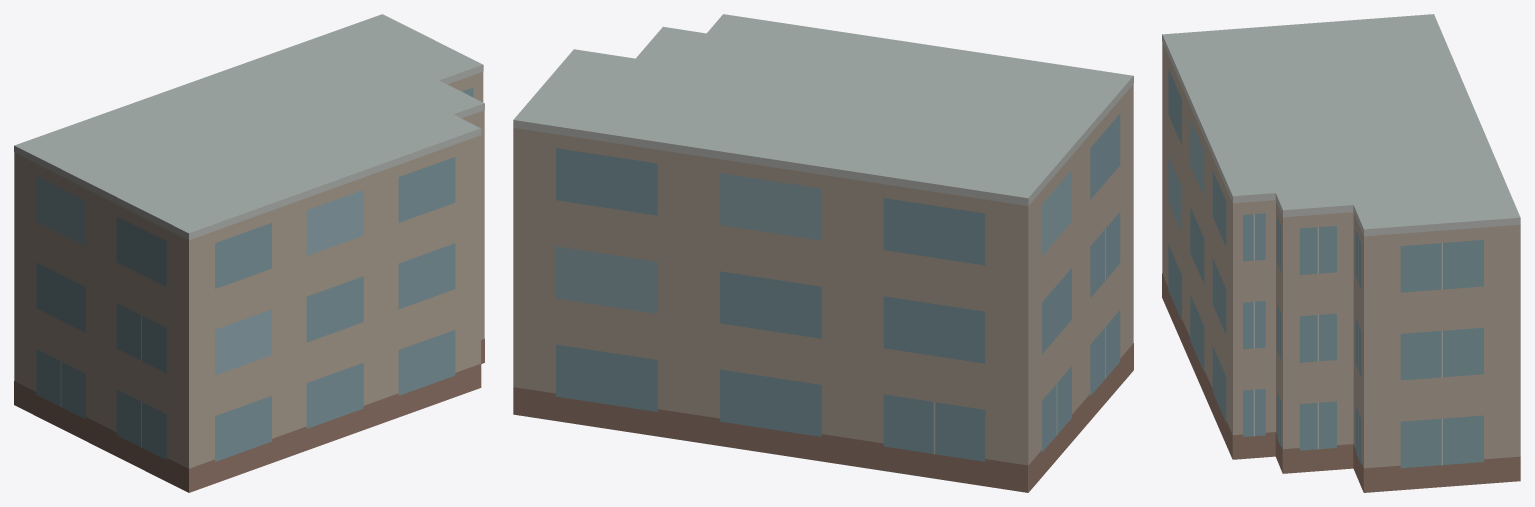
The model's file is survey-upis-32979979.glb.
The picture shows the model from 3 angles, left to right: view 1: azimuth 30°, elevation 25°; view 2: azimuth 150°, elevation 25°; view 3: azimuth 270°, elevation 25°; orthographic projection. The views are drawn at different scales.
Parts seen in each view (by area): view 1: survey-upis-32979979.tmp; view 2: survey-upis-32979979.tmp; view 3: survey-upis-32979979.tmp.
Part boxes in pixels (x1,y1,x2,y2): survey-upis-32979979.tmp: (14,14,484,492); survey-upis-32979979.tmp: (513,14,1133,492); survey-upis-32979979.tmp: (1162,14,1520,492).
Bounding box in the file's own units: 16.06 × 9.15 × 11.29.
